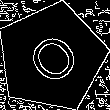O_SE: (18, 24, 85, 90)
